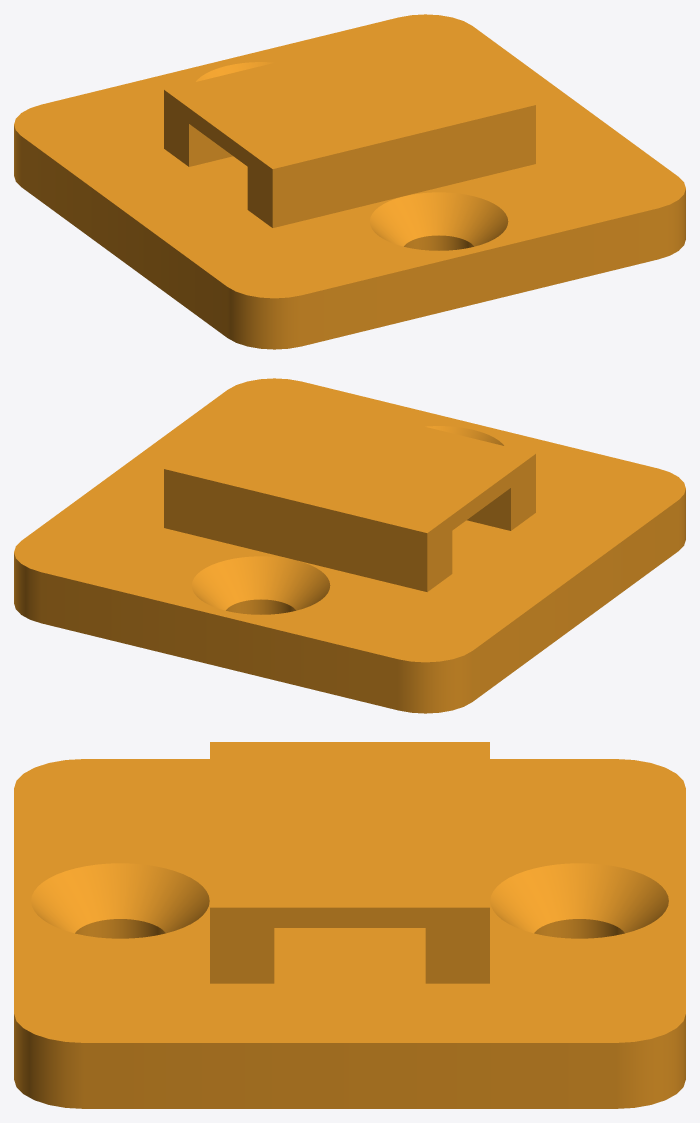
Rendered from base_brida.fbx.
The picture shows the model from 3 angles, top to bottom: view 1: azimuth 30°, elevation 25°; view 2: azimuth 150°, elevation 25°; view 3: azimuth 270°, elevation 25°; orthographic projection. The views are drawn at different scales.
Parts seen in each view (by area): view 1: base_brida; view 2: base_brida; view 3: base_brida.
Boxes of the visible parts, x1,y1,x2,y2 form: base_brida: [14, 14, 685, 349]; base_brida: [14, 378, 685, 713]; base_brida: [14, 742, 685, 1108].
Bounding box in the file's own units: 0.024 × 0.0056 × 0.024.
